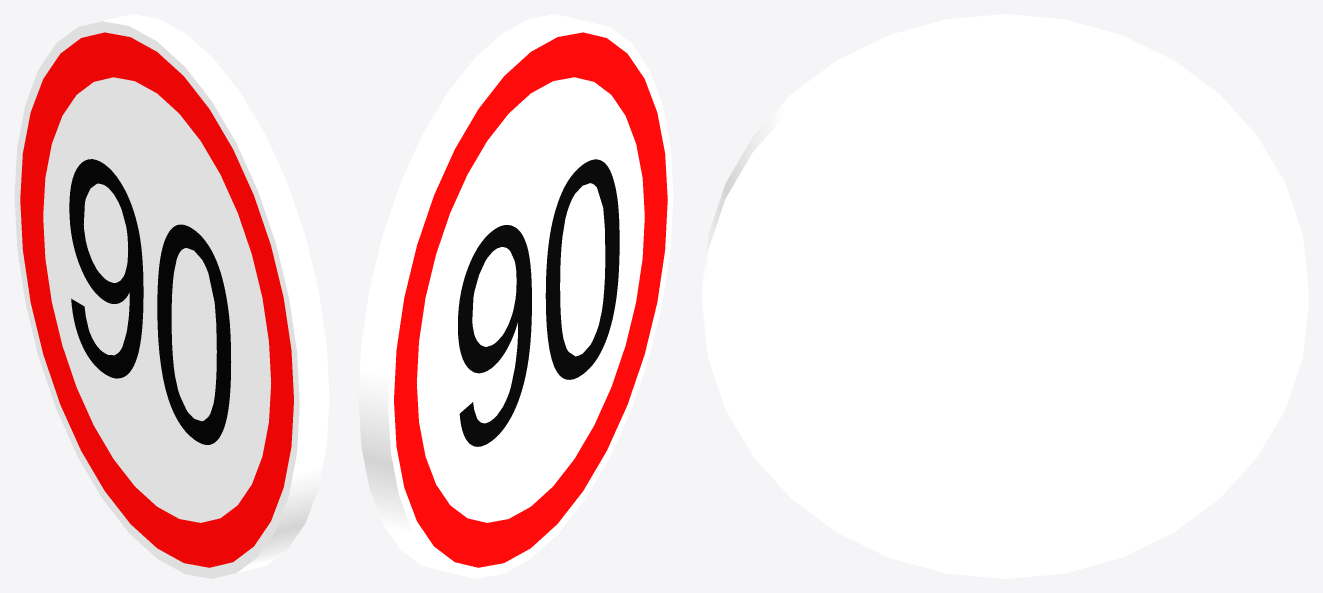
The model's file is Speed_Limit_90.glb.
3 views of the same model, side by side, from view 1: azimuth 30°, elevation 25°; view 2: azimuth 150°, elevation 25°; view 3: azimuth 270°, elevation 25° (orthographic). The views are drawn at different scales.
Parts seen in each view (by area): view 1: Speed_Limit_90; view 2: Speed_Limit_90; view 3: Speed_Limit_90.
Part boxes in pixels (box(x1,y1,x2,y2)): Speed_Limit_90: box(14, 14, 329, 578); Speed_Limit_90: box(358, 14, 673, 578); Speed_Limit_90: box(702, 14, 1308, 578).
Size of the model in its own units: 0.075 by 1 by 1.
